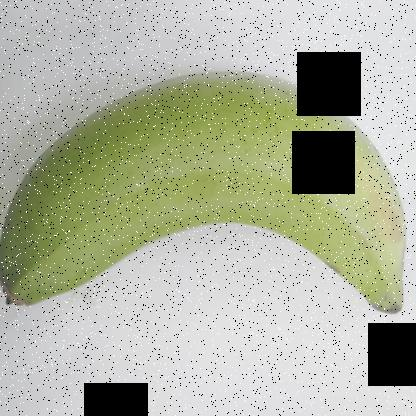freshunripe: (1, 63, 415, 334)
